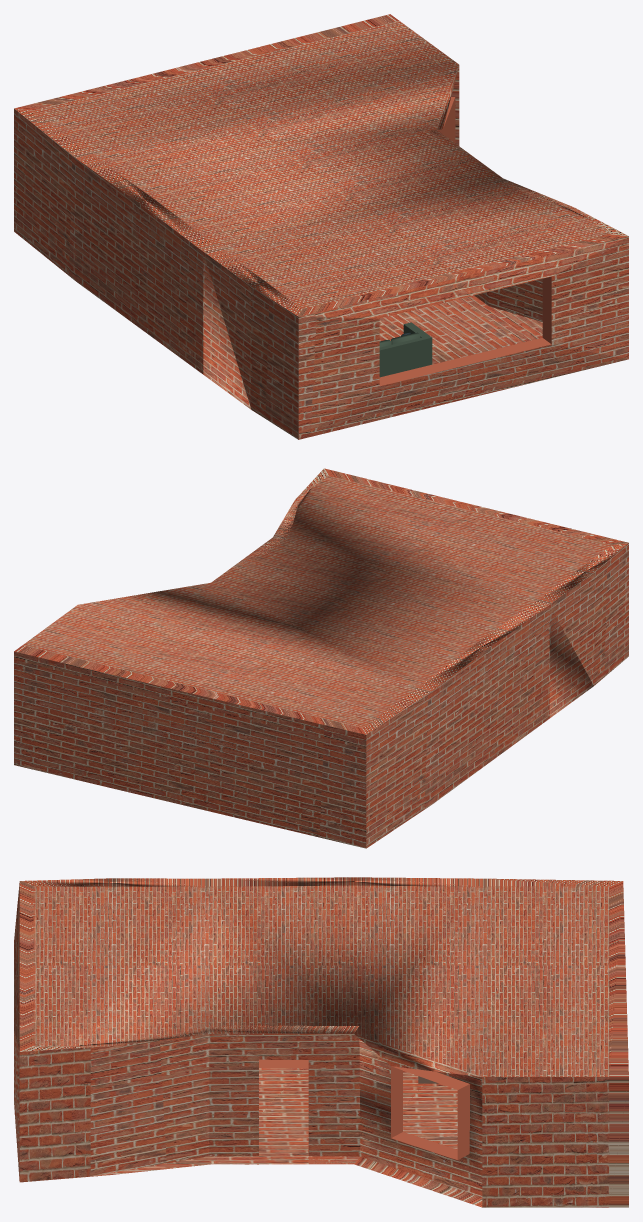
Rendered from office1.glb.
3 views of the same model, one above another, from view 1: azimuth 30°, elevation 25°; view 2: azimuth 150°, elevation 25°; view 3: azimuth 270°, elevation 25° (orthographic). The views are drawn at different scales.
Parts seen in each view (by area): view 1: Cube.005-col, Cube.015-col; view 2: Cube.005-col; view 3: Cube.005-col.
Boxes of the visible parts, left/top/right/bottom form: Cube.005-col: left=14, top=14, right=628, bottom=439; Cube.015-col: left=379, top=322, right=432, bottom=377; Cube.005-col: left=14, top=468, right=628, bottom=848; Cube.005-col: left=14, top=877, right=628, bottom=1207.
Size of the model in its own units: 13.54 by 4.19 by 17.73.
10 materials, 1 textured.
